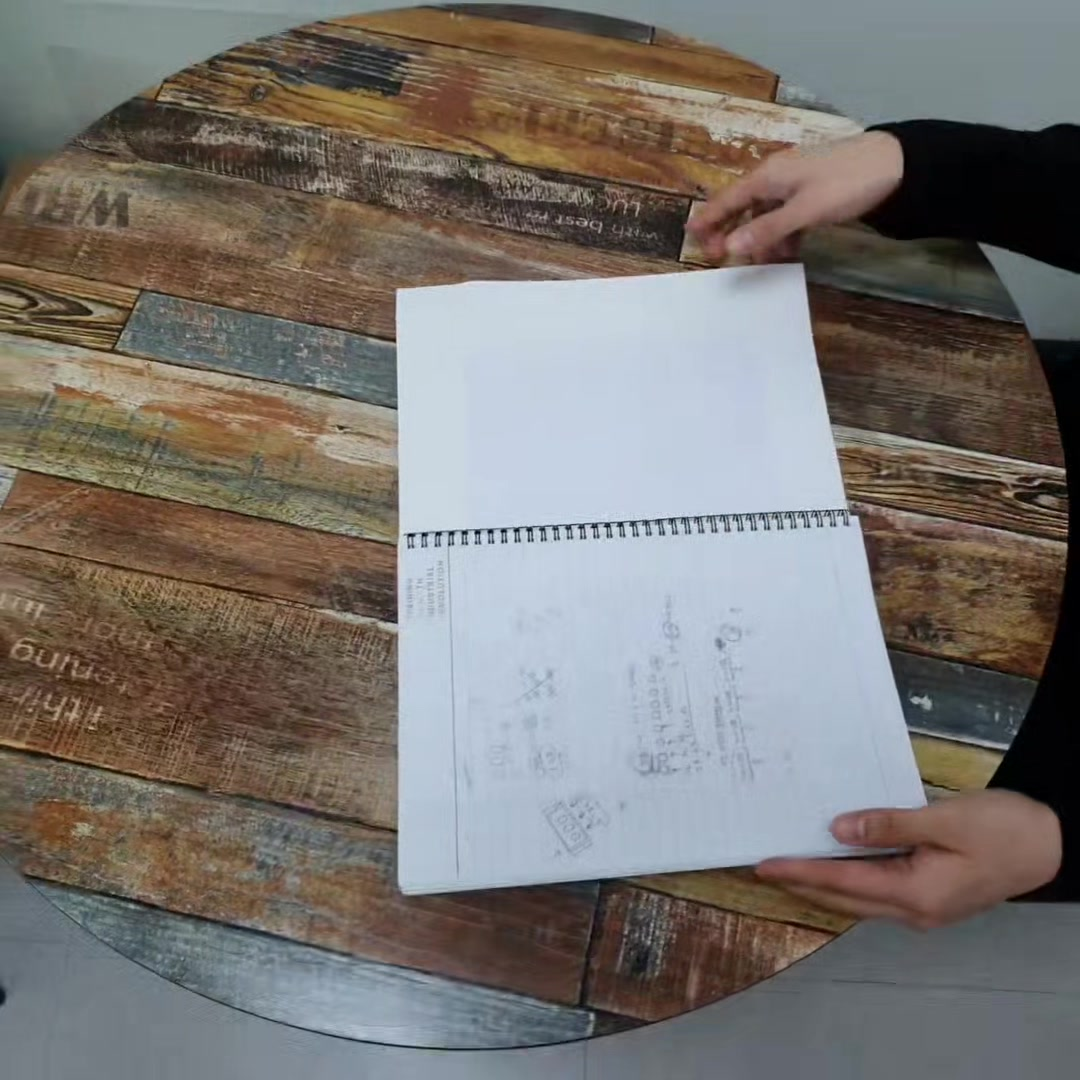book: (392, 260, 926, 873)
